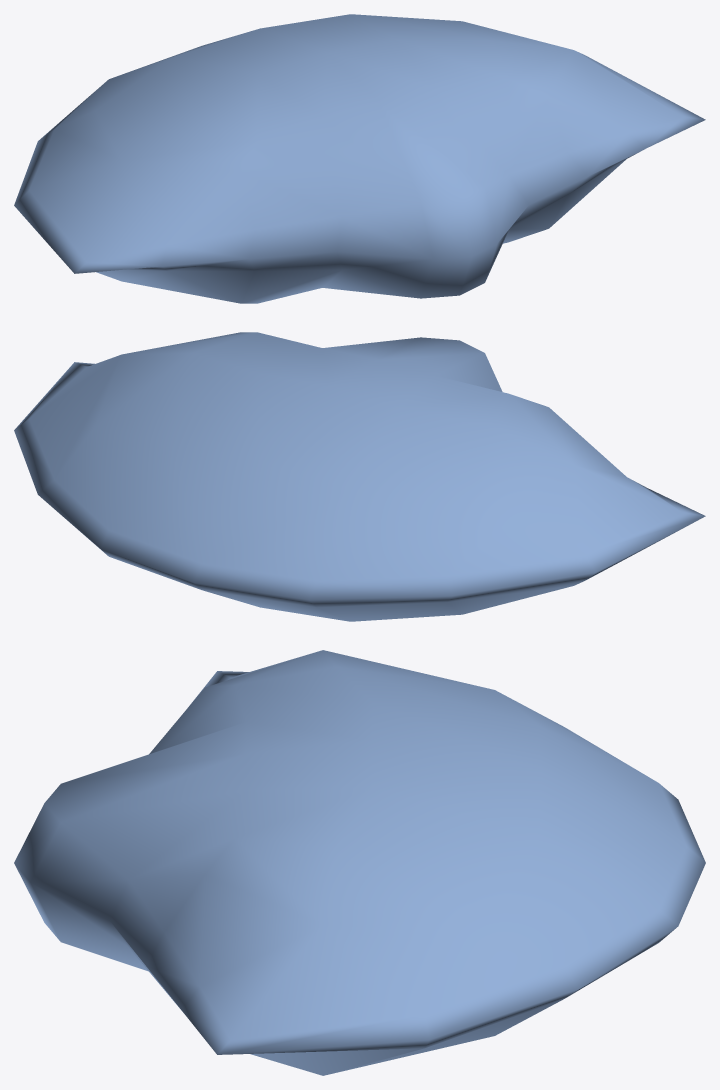
File: svrObjectFanShellA.FBX
3 views of the same model, one above another, from view 1: azimuth 30°, elevation 25°; view 2: azimuth 150°, elevation 25°; view 3: azimuth 270°, elevation 25° (orthographic). The views are drawn at different scales.
Visible parts, largest first — view 1: svrObjectFanShellA; view 2: svrObjectFanShellA; view 3: svrObjectFanShellA.
Boxes of the visible parts, x1,y1,x2,y2 form: svrObjectFanShellA: [14, 14, 705, 303]; svrObjectFanShellA: [14, 332, 705, 621]; svrObjectFanShellA: [14, 650, 705, 1075].
Size of the model in its own units: 0.5 by 0.1487 by 0.3808.
